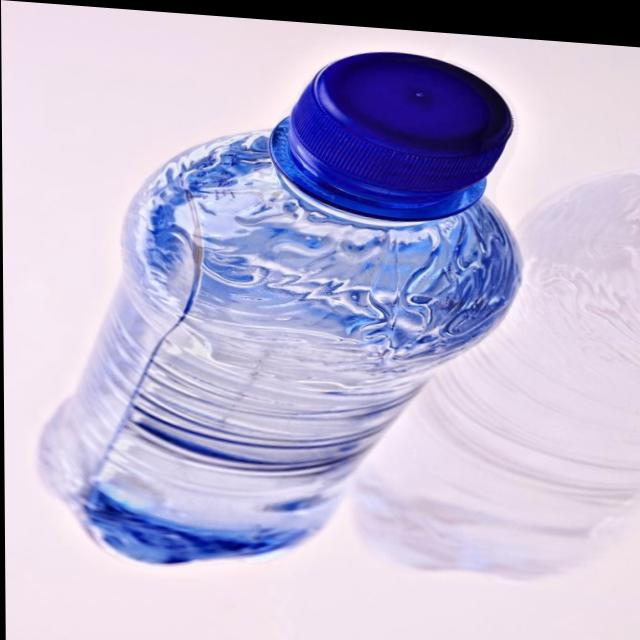bottle: (33, 26, 530, 583)
